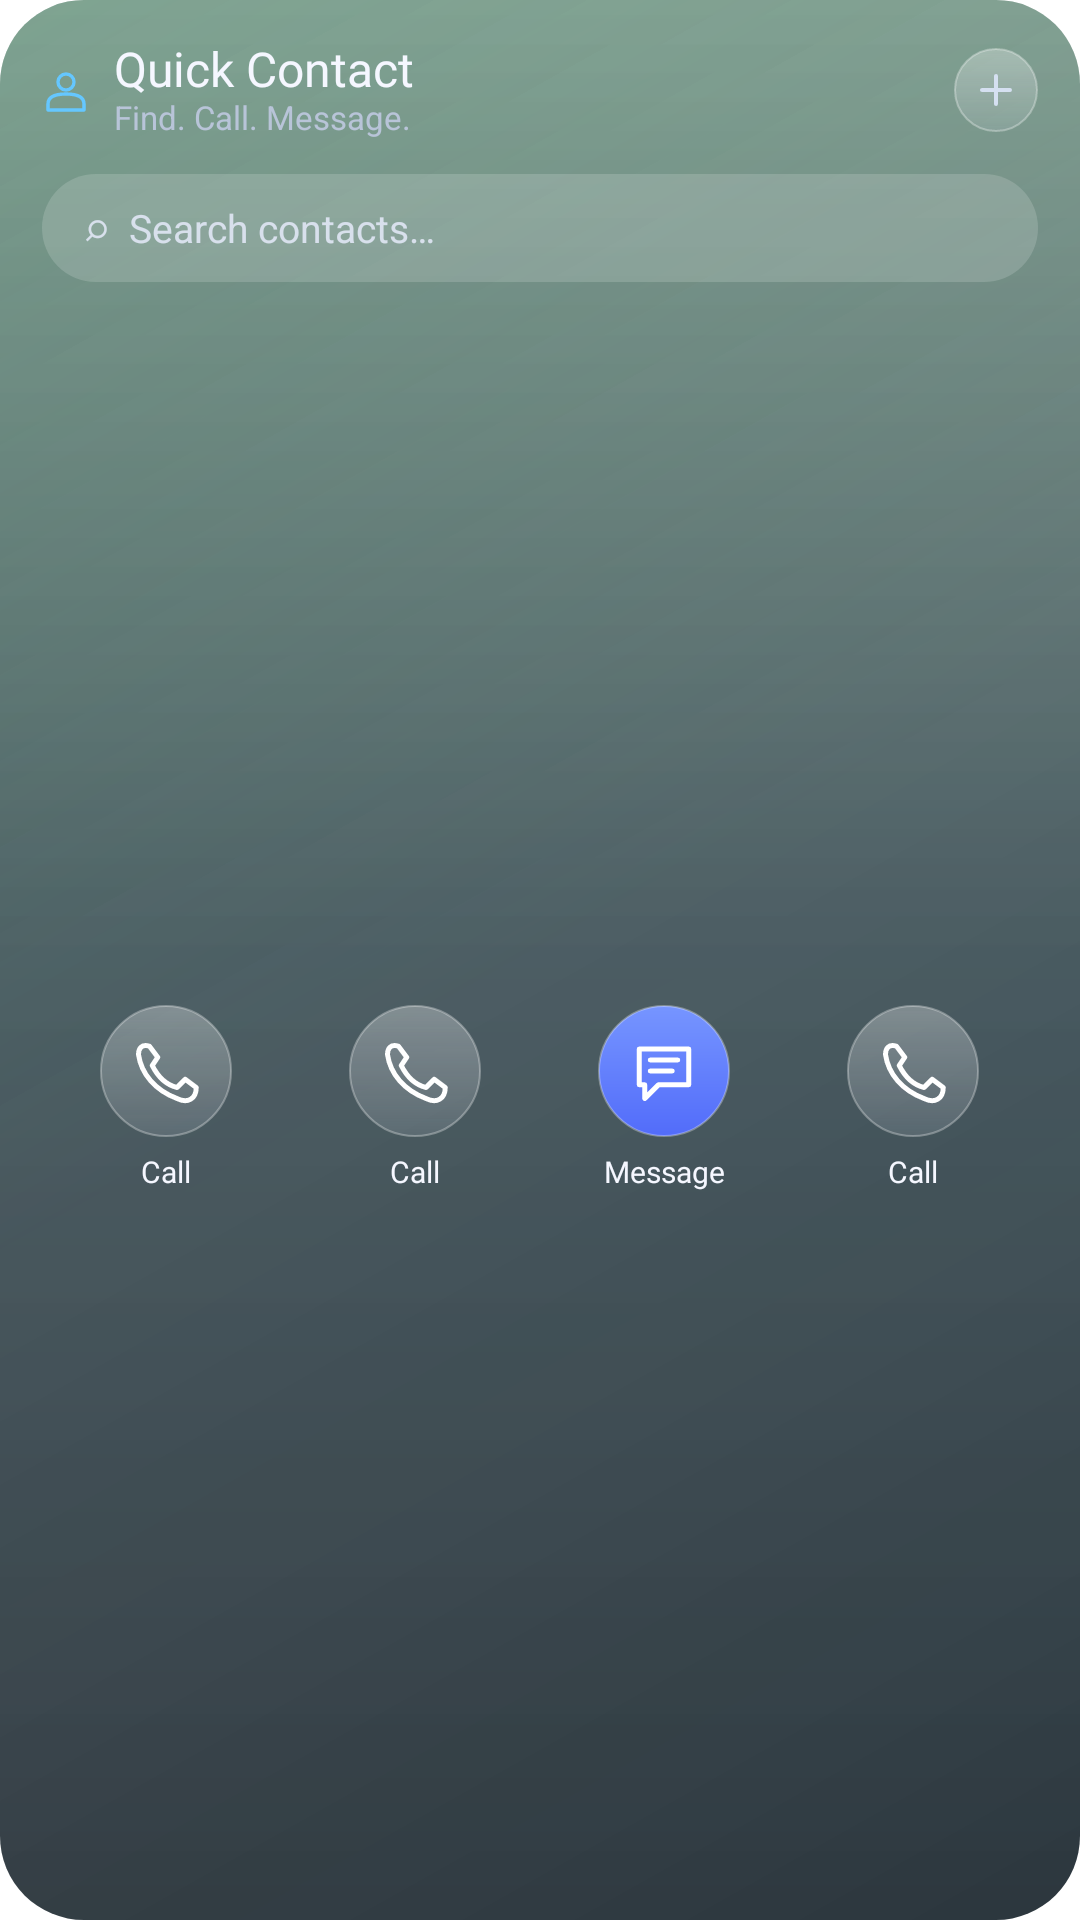

Point at icon controls on the screen. Image size 1080 x 1920, points as [x,y].
Choose contacts: [996,90]
widget contacts: [66,92]
